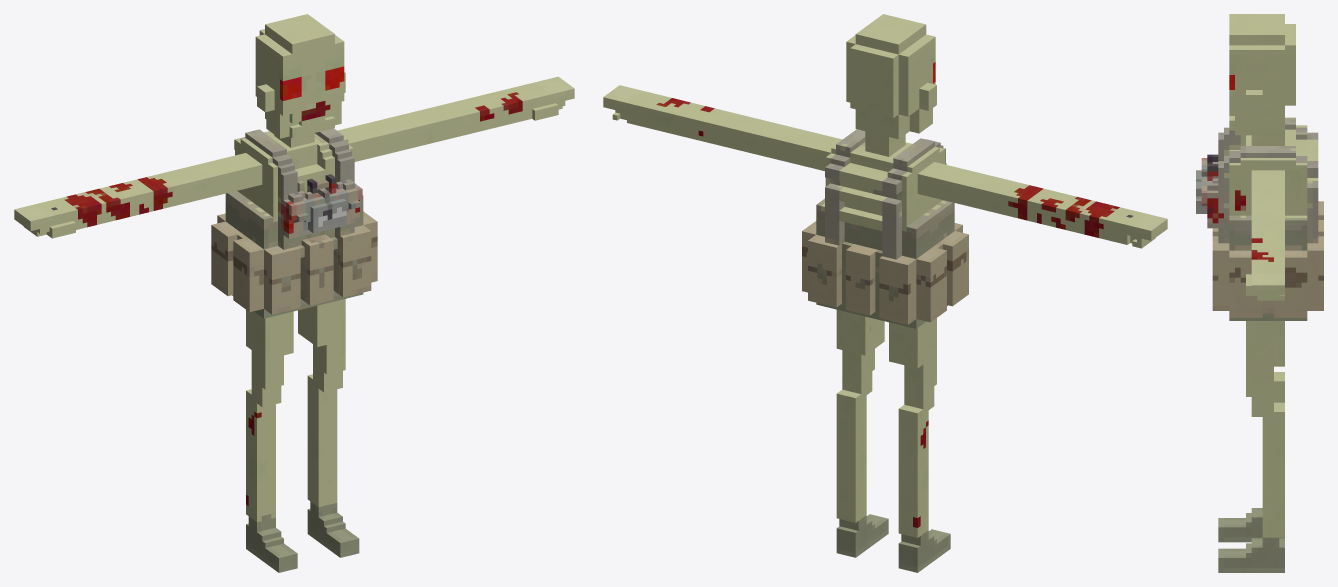
File: kamikaze.rigged.glb
The picture shows the model from 3 angles, left to right: view 1: azimuth 30°, elevation 25°; view 2: azimuth 150°, elevation 25°; view 3: azimuth 270°, elevation 25°; orthographic projection.
Parts seen in each view (by area): view 1: torso, head, armR_fore, armL_fore, armR_upper, legL_shin, legR_thigh, legR_shin, legL_thigh, armL_upper, footL, footR; view 2: torso, head, armR_fore, armL_fore, legL_shin, legR_shin, armR_upper, legR_thigh, legL_thigh, armL_upper, footR, footL; view 3: torso, head, legL_thigh, armL_fore, legL_shin, armL_upper, footL, footR, legR_thigh.
Part boxes in pixels (<box>): torso: <box>211,109,377,318</box>; head: <box>255,14,345,128</box>; armR_fore: <box>14,175,181,238</box>; armL_fore: <box>410,76,574,143</box>; armR_upper: <box>156,143,270,205</box>; legL_shin: <box>307,381,342,511</box>; legR_thigh: <box>246,310,293,408</box>; legR_shin: <box>246,395,275,524</box>; legL_thigh: <box>298,299,345,392</box>; armL_upper: <box>337,112,427,161</box>; footL: <box>307,503,359,557</box>; footR: <box>246,517,297,572</box>; torso: <box>802,109,968,328</box>; head: <box>846,14,936,139</box>; armR_fore: <box>1003,183,1167,248</box>; armL_fore: <box>603,85,766,152</box>; legL_shin: <box>836,398,866,525</box>; legR_shin: <box>898,410,928,540</box>; armR_upper: <box>912,152,1019,214</box>; legR_thigh: <box>889,305,947,425</box>; legL_thigh: <box>836,309,884,405</box>; armL_upper: <box>751,121,842,170</box>; footR: <box>898,529,950,572</box>; footL: <box>836,514,888,557</box>; torso: <box>1196,115,1323,320</box>; head: <box>1229,14,1295,130</box>; legL_thigh: <box>1235,308,1290,421</box>; armL_fore: <box>1246,210,1284,300</box>; legL_shin: <box>1262,417,1284,542</box>; armL_upper: <box>1229,158,1295,212</box>; footL: <box>1218,538,1284,572</box>; footR: <box>1218,508,1284,542</box>; legR_thigh: <box>1274,372,1284,391</box>.
Size of the model in its own units: 1.9 by 1.73 by 0.3793.
